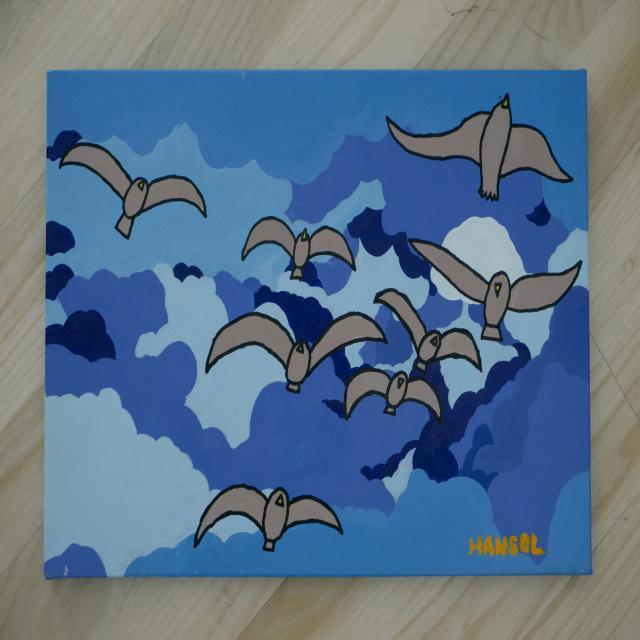painting: (44, 70, 591, 578)
